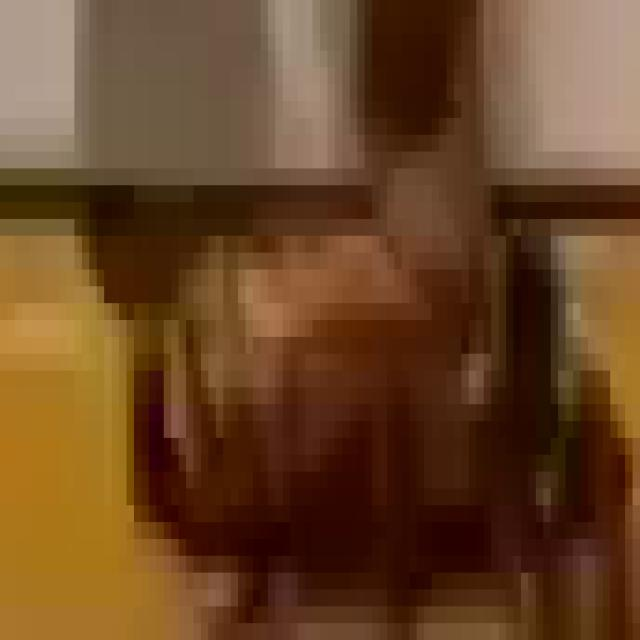honeybee: (127, 168, 618, 640)
